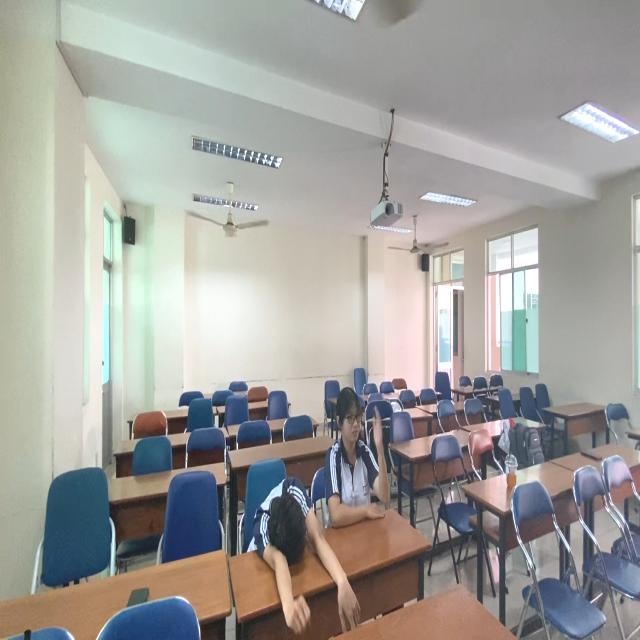raise_hand: (320, 383, 395, 532)
sleep: (236, 475, 330, 589)
